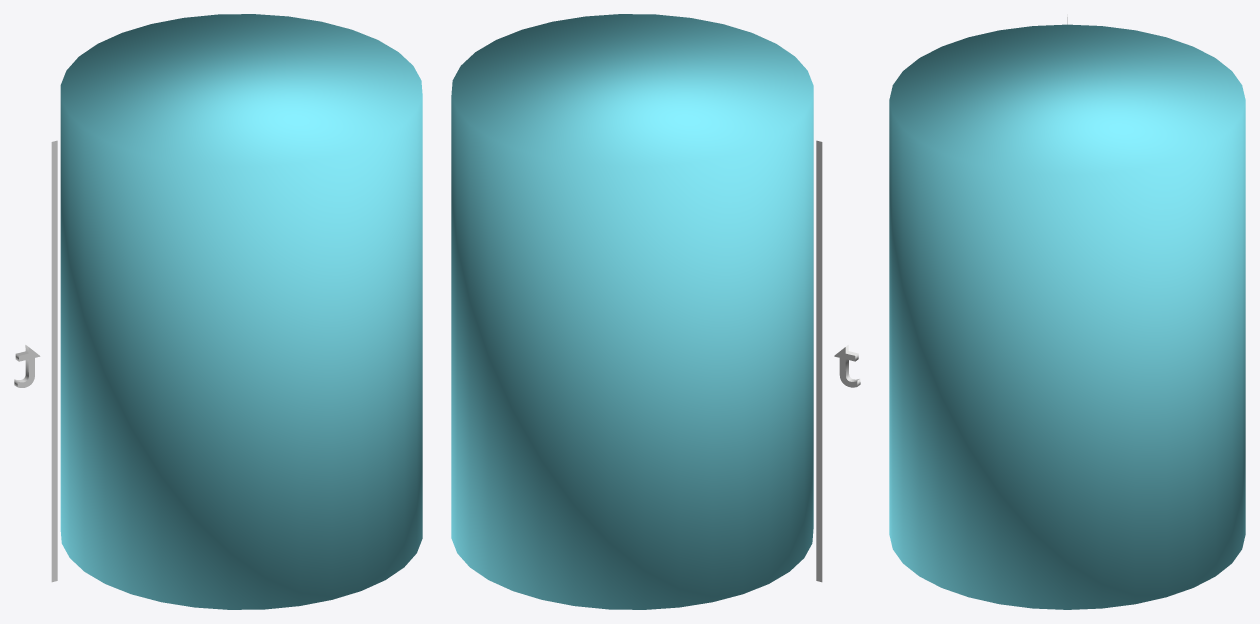
3 renders of one model, left to right at view 1: azimuth 30°, elevation 25°; view 2: azimuth 150°, elevation 25°; view 3: azimuth 270°, elevation 25°, orthographic.
Parts seen in each view (by area): view 1: Cylinder.002, Cylinder.003, H; view 2: Cylinder.002, Cylinder.003, H; view 3: Cylinder.002.
Part boxes in pixels (x1,y1,x2,y2): Cylinder.002: (60,14,422,609); Cylinder.003: (51,140,57,582); H: (14,345,40,387); Cylinder.002: (451,14,813,609); Cylinder.003: (816,140,822,582); H: (834,345,860,387); Cylinder.002: (889,24,1245,609).
Bounding box in the file's own units: 2.55 × 2.83 × 2.09.
